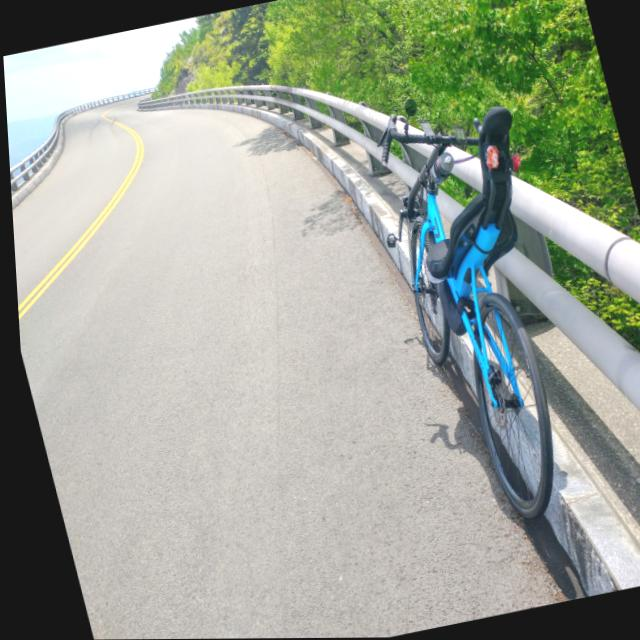recumbent-bike: (353, 73, 614, 542)
